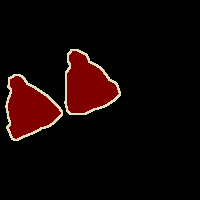hat: (6, 74, 62, 140), (65, 50, 120, 114)
